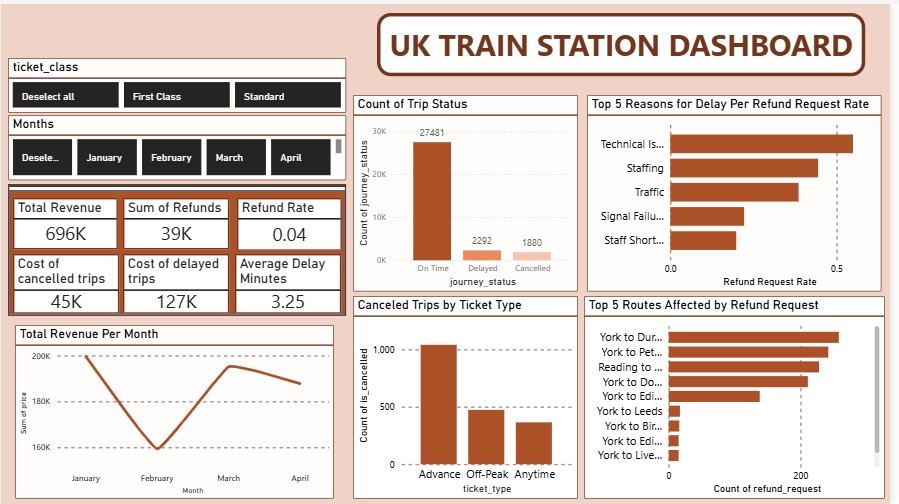

What the dashboard file says about the page in this screenshot:
{"tool":"powerbi","page":{"name":"Page 1","canvas":[1280,720],"ordinal":0},"visuals":[{"type":"shape","box":[7.3,89.6,526,161.6],"z":0},{"type":"textbox","box":[546.7,18.3,726.7,91.7],"z":1000},{"type":"lineChart","title":"Total Revenue Per Month","fields":{"Category":["railway_processed_dataset.date_of_journey.Variation.Date Hierarchy.Month"],"Y":["Sum(railway_processed_dataset.price)"]},"box":[7.3,489.3,533.4,221.9],"z":2000},{"type":"card","title":"Cost of Cancelled trips","fields":{"Values":["Sum(railway_processed_dataset.price)"]},"box":[14.7,164.6,161.6,86.7],"z":3000},{"type":"card","title":"Cost of Delayed Trips","fields":{"Values":["Sum(railway_processed_dataset.price)"]},"box":[180.7,164.6,166,85.2],"z":4000},{"type":"clusteredColumnChart","title":"Count of Trip Status","fields":{"Category":["railway_processed_dataset.journey_status"],"Y":["CountNonNull(railway_processed_dataset.journey_status)"]},"box":[583.3,191.7,231.7,191.7],"z":5000},{"type":"card","title":"Total Revenue","fields":{"Values":["Sum(railway_processed_dataset.price)"]},"box":[14.7,101.4,161.6,63.2],"z":6000},{"type":"card","title":"Sum of Refunds","fields":{"Values":["Sum(railway_processed_dataset.price)"]},"box":[180.7,101.4,166,63.2],"z":7000},{"type":"card","title":"Refund Request (%)","fields":{"Values":["railway_processed_dataset.refund percentage"]},"box":[349.7,101.4,176.3,63.2],"z":8000},{"type":"clusteredBarChart","title":"Top Reasons for Delayed Trips","fields":{"Category":["railway_processed_dataset.Cleaned Reason"],"Y":["CountNonNull(railway_processed_dataset.is_delayed)"]},"box":[905.1,132.2,365.9,282.1],"z":9000},{"type":"clusteredBarChart","title":"Top Routes Affected by Refund Request","fields":{"Category":["railway_processed_dataset.route"],"Y":["CountNonNull(railway_processed_dataset.refund_request)"]},"box":[903.7,420.2,368.8,290.9],"z":10000},{"type":"clusteredColumnChart","title":"Distribution of Cancelled Trips by Booking Period","fields":{"Y":["CountNonNull(railway_processed_dataset.is_cancelled)"],"Category":["railway_processed_dataset.ticket_type"]},"box":[546.6,420.2,351.2,292.4],"z":11000},{"type":"advancedSlicerVisual","title":"Ticket Class","fields":{"Values":["railway_processed_dataset.ticket_class"]},"box":[6.7,8.3,526.7,80],"z":12000},{"type":"card","title":"Average Delay Minutes","fields":{"Values":["Avg(railway_processed_dataset.delay_minutes)"]},"box":[349.7,164.6,176.3,83.8],"z":13000},{"type":"donutChart","title":"Distribution of Ticket Class","fields":{"Category":["railway_processed_dataset.ticket_class"],"Y":["CountNonNull(railway_processed_dataset.ticket_class)"]},"box":[296.8,261.6,243.9,221.9],"z":14000},{"type":"clusteredBarChart","title":"Top Reasons for Cancelled Trips","fields":{"Category":["railway_processed_dataset.Cleaned Reason"],"Y":["railway_processed_dataset.Cancelled Trips"]},"box":[546.6,132.2,351.2,282.1],"z":15000},{"type":"clusteredColumnChart","title":"Distribution of Journey Status","fields":{"Category":["railway_processed_dataset.journey_status"],"Y":["CountNonNull(railway_processed_dataset.journey_status)"]},"box":[7.3,261.6,283.6,221.9],"z":16000}]}

Visuals, with their boxes in screenshot pixels (x1, y1, x2, y2), scaled from the page's 1280x720 canvas onto the 899x504 screenshot:
shape: <region>5, 63, 375, 176</region>
textbox: <region>384, 13, 894, 77</region>
"Total Revenue Per Month" lineChart: <region>5, 343, 380, 498</region>
"Cost of Cancelled trips" card: <region>10, 115, 124, 176</region>
"Cost of Delayed Trips" card: <region>127, 115, 244, 175</region>
"Count of Trip Status" clusteredColumnChart: <region>410, 134, 572, 268</region>
"Total Revenue" card: <region>10, 71, 124, 115</region>
"Sum of Refunds" card: <region>127, 71, 244, 115</region>
"Refund Request (%)" card: <region>246, 71, 369, 115</region>
"Top Reasons for Delayed Trips" clusteredBarChart: <region>636, 93, 893, 290</region>
"Top Routes Affected by Refund Request" clusteredBarChart: <region>635, 294, 894, 498</region>
"Distribution of Cancelled Trips by Booking Period" clusteredColumnChart: <region>384, 294, 631, 499</region>
"Ticket Class" advancedSlicerVisual: <region>5, 6, 375, 62</region>
"Average Delay Minutes" card: <region>246, 115, 369, 174</region>
"Distribution of Ticket Class" donutChart: <region>208, 183, 380, 338</region>
"Top Reasons for Cancelled Trips" clusteredBarChart: <region>384, 93, 631, 290</region>
"Distribution of Journey Status" clusteredColumnChart: <region>5, 183, 204, 338</region>
